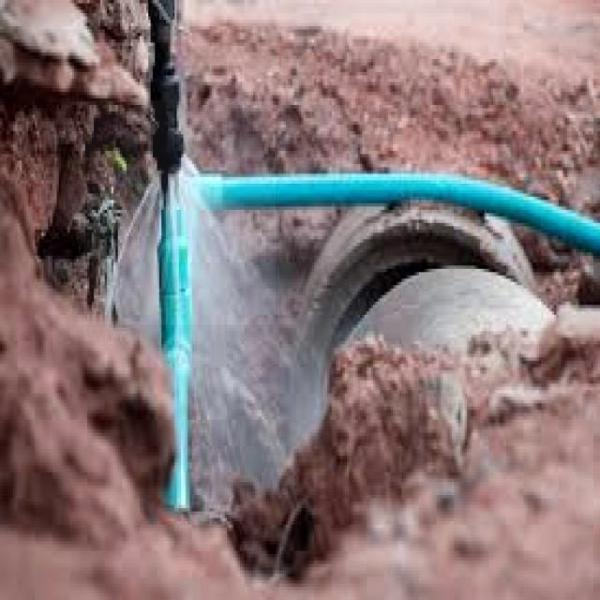pipe burst: (104, 154, 326, 507)
